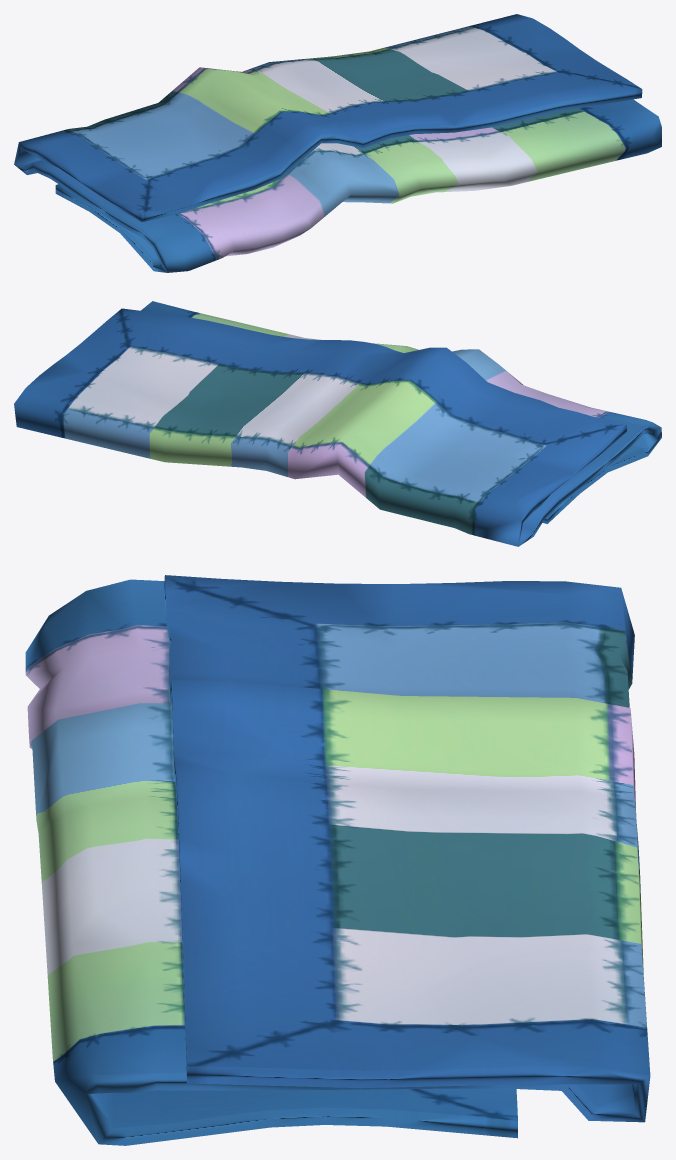
Rendered from babyBlanket_Boy.fbx.
3 renders of one model, top to bottom at view 1: azimuth 30°, elevation 25°; view 2: azimuth 150°, elevation 25°; view 3: azimuth 270°, elevation 25°, orthographic. The views are drawn at different scales.
Parts seen in each view (by area): view 1: blanket; view 2: blanket; view 3: blanket.
Part boxes in pixels (x1,y1,x2,y2): blanket: (14,14,661,272); blanket: (14,301,661,546); blanket: (25,575,650,1145).
Size of the model in its own units: 1.03 by 0.1481 by 0.542.
Materials: 1 (1 with a texture image).
